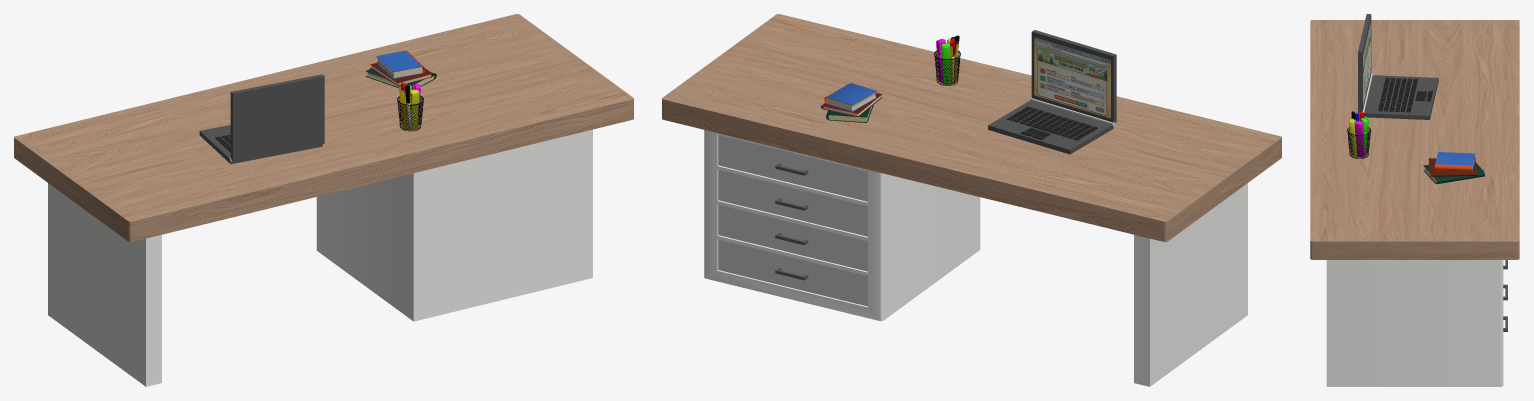
File: secone.glb
3 views of the same model, side by side, from view 1: azimuth 30°, elevation 25°; view 2: azimuth 150°, elevation 25°; view 3: azimuth 270°, elevation 25° (orthographic). The views are drawn at different scales.
Parts seen in each view (by area): view 1: table top, table, Cube.002, Cube, Cube.001, Cylinder_2; view 2: table top, table, Cube.002, Cube.001, Cube, Cylinder_2; view 3: table top, table, Cube.001, Cube, Cube.002, Cylinder_2, Cube.002_13, Cube_11.
Part boxes in pixels (x1,y1,x2,y2): table top: [14, 14, 633, 241]; table: [48, 129, 592, 386]; Cube.002: [230, 74, 324, 161]; Cube: [365, 50, 436, 89]; Cube.001: [199, 125, 322, 164]; Cylinder_2: [397, 96, 423, 131]; table top: [662, 14, 1281, 241]; table: [704, 130, 1247, 386]; Cube.002: [1031, 30, 1116, 122]; Cube.001: [988, 98, 1114, 154]; Cube: [821, 83, 882, 122]; Cylinder_2: [934, 51, 960, 85]; table top: [1310, 20, 1519, 259]; table: [1326, 260, 1503, 386]; Cube.001: [1362, 73, 1438, 119]; Cube: [1423, 152, 1484, 184]; Cube.002: [1358, 14, 1371, 112]; Cylinder_2: [1347, 128, 1370, 158]; Cube.002_13: [1354, 120, 1364, 156]; Cube_11: [1349, 118, 1357, 156].
Size of the model in its own units: 5.95 by 2.81 by 2.38.
38 materials, 3 textured.
